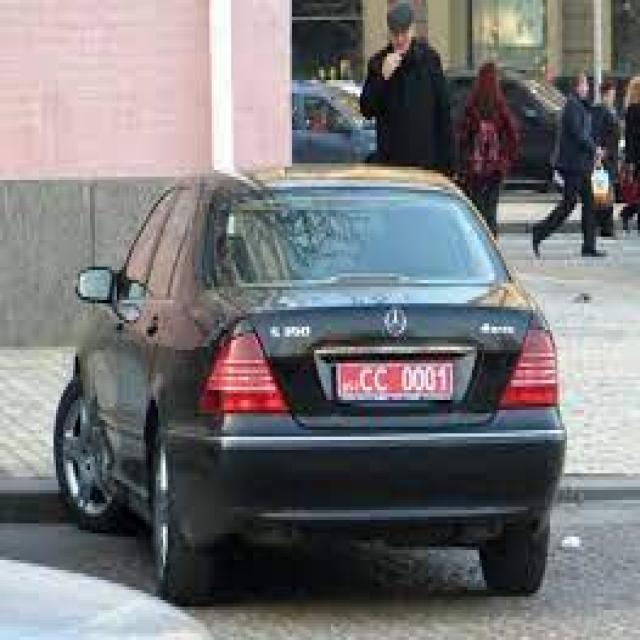number-plates: (334, 359, 454, 410)
